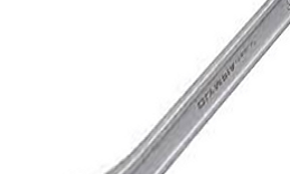Wrench: (102, 1, 283, 174)
